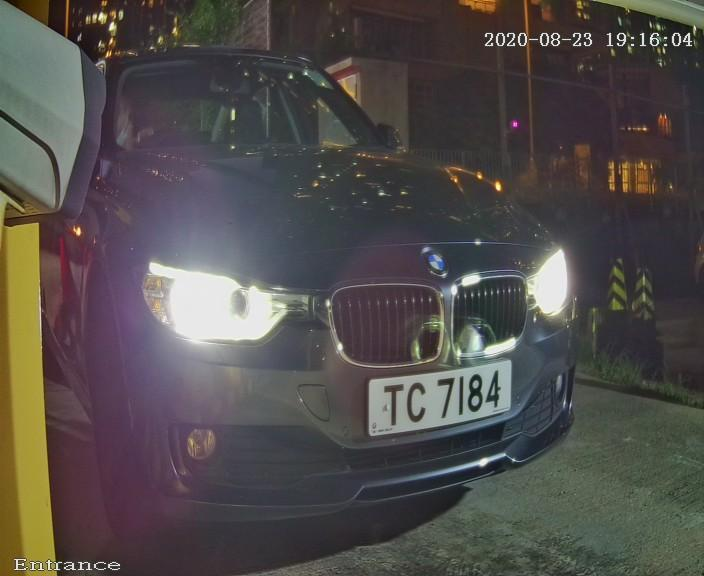Car: (23, 6, 626, 551)
License Plate: (333, 340, 538, 461)
